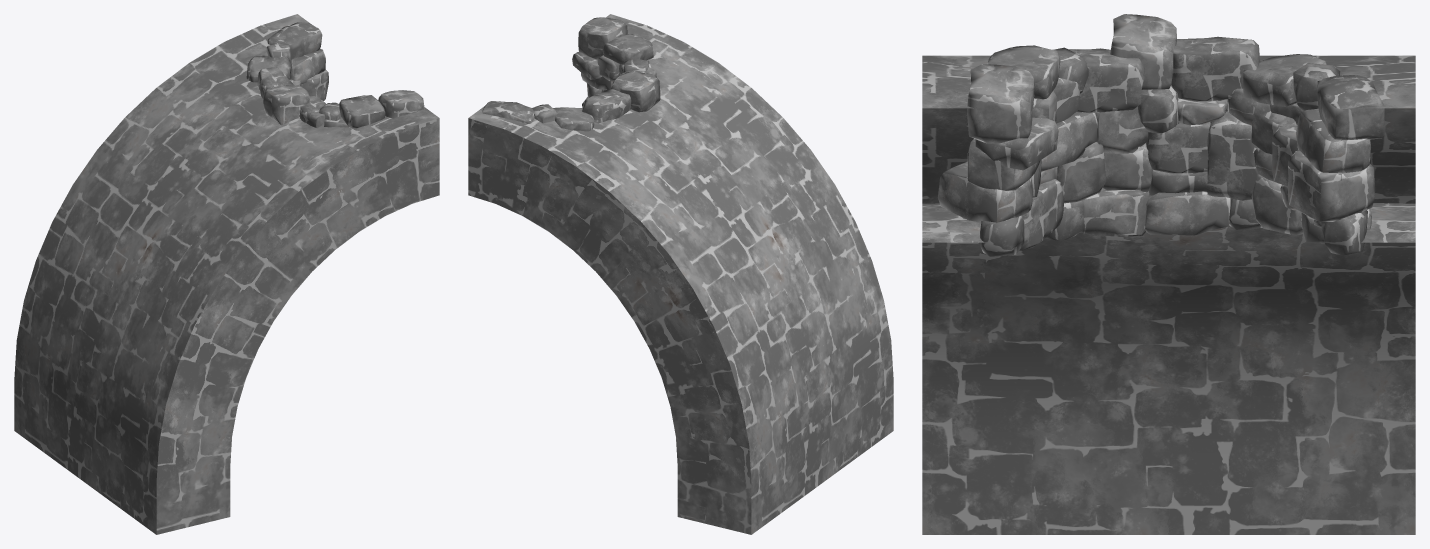
The model's file is Half_Roof_Hole_01.fbx.
The picture shows the model from 3 angles, left to right: view 1: azimuth 30°, elevation 25°; view 2: azimuth 150°, elevation 25°; view 3: azimuth 270°, elevation 25°; orthographic projection. The views are drawn at different scales.
Parts seen in each view (by area): view 1: Half_Roof_Hole, Rocks_011; view 2: Half_Roof_Hole, Rocks_011; view 3: Half_Roof_Hole, Rocks_011.
Part boxes in pixels (bbox=[...]): Half_Roof_Hole: bbox=[14, 14, 439, 534]; Rocks_011: bbox=[246, 22, 424, 128]; Half_Roof_Hole: bbox=[468, 14, 893, 534]; Rocks_011: bbox=[482, 17, 660, 131]; Half_Roof_Hole: bbox=[922, 55, 1415, 534]; Rocks_011: bbox=[937, 14, 1384, 256].
Bounding box in the file's own units: 5.92 × 6.96 × 5.
